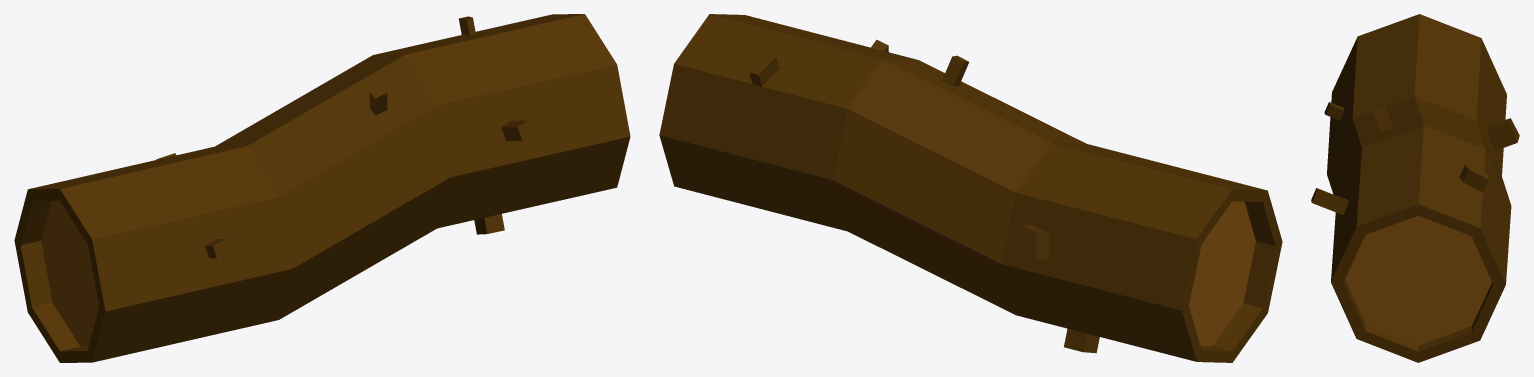
The model's file is Log.fbx.
3 renders of one model, left to right at view 1: azimuth 30°, elevation 25°; view 2: azimuth 150°, elevation 25°; view 3: azimuth 270°, elevation 25°, orthographic. The views are drawn at different scales.
Visible parts, largest first — view 1: Log; view 2: Log; view 3: Log.
Part boxes in pixels (x1,y1,x2,y2): Log: (14, 14, 630, 362); Log: (659, 14, 1282, 362); Log: (1311, 14, 1519, 362).
Bounding box in the file's own units: 637 × 264 × 238.
